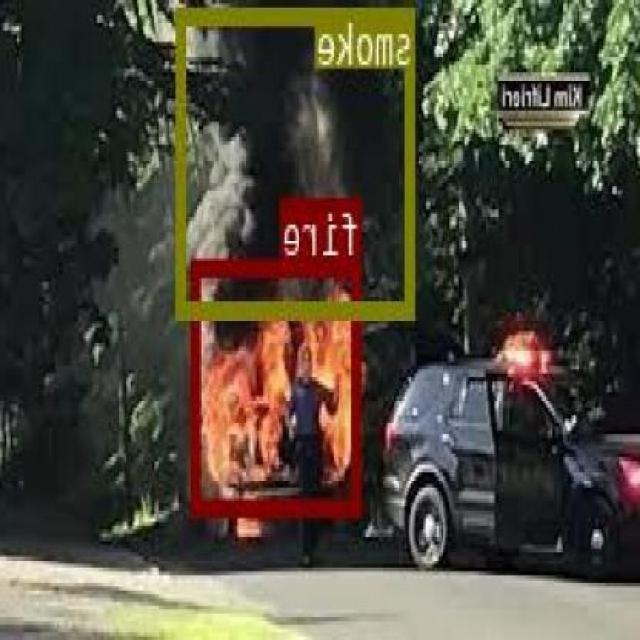Fire: (194, 258, 363, 514)
Smoke: (178, 6, 417, 314)
